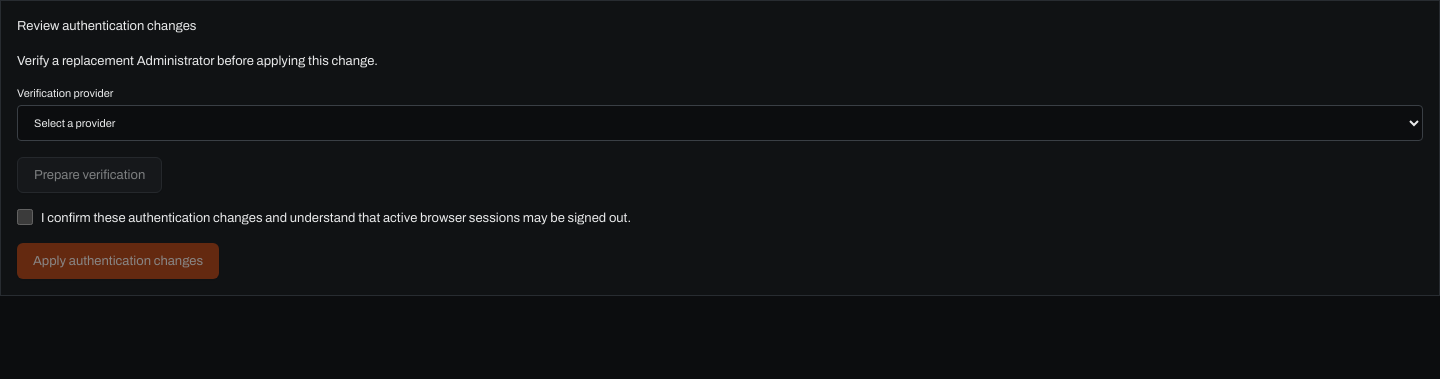
it: administrator confirmation lifecycle › fails closed when verification polling is denied or expires
The image size is (1440, 379).
Select "Company" in the dropdown at (720, 123), box [17,105,1423,141]
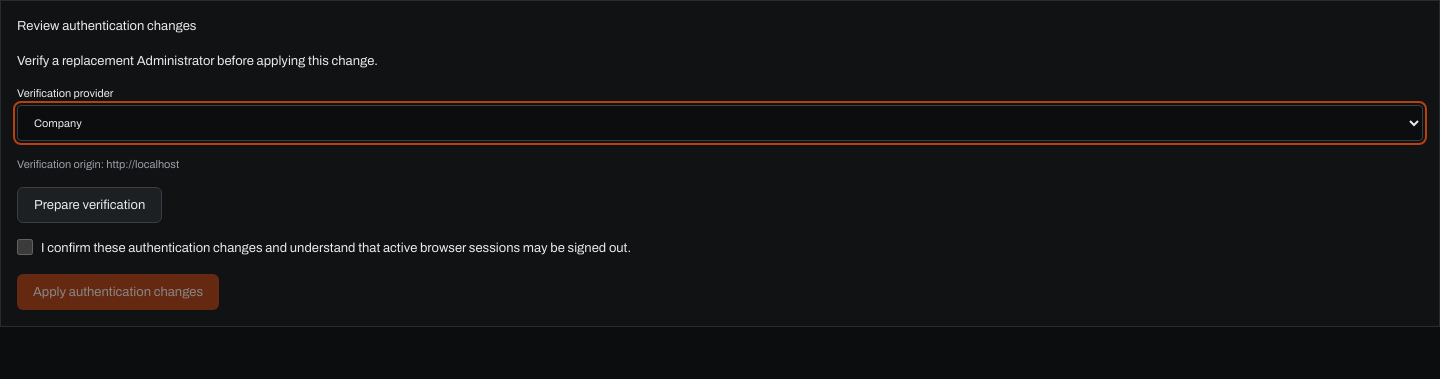
Click the button "Prepare verification" at (90, 205), box [17,187,162,223]
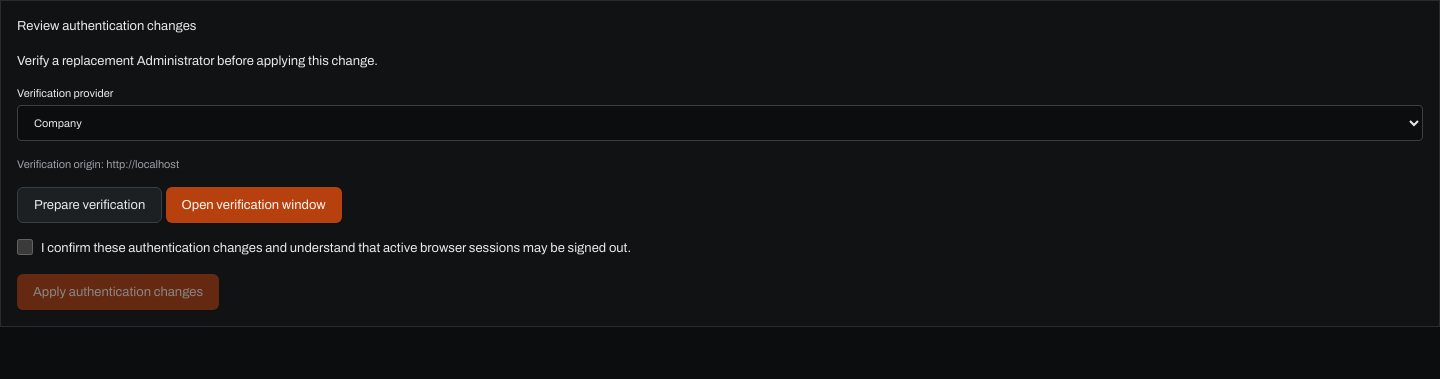
Click the button "Open verification window" at (254, 205), box [166,187,342,223]
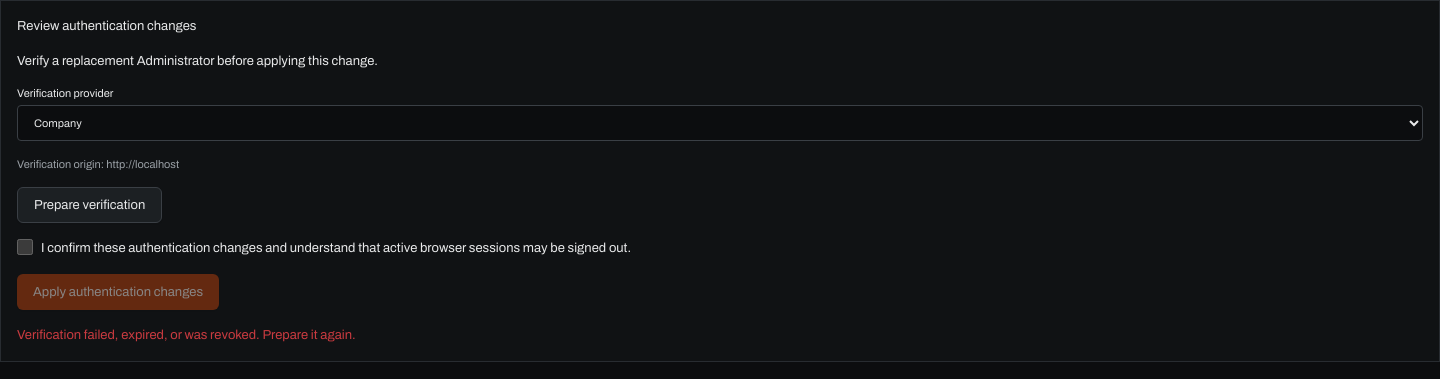
Expected: the button "Apply authentication changes" is disabled, [17,274,219,310]
Expected: the message reads "Verification failed, expired, or was revoked. Prepare it again.", [17,328,356,342]
